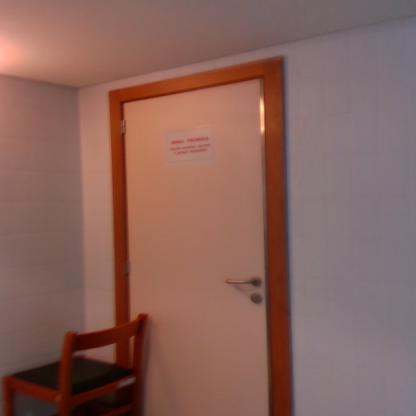door: (124, 96, 272, 415)
hinged: (124, 257, 134, 276), (120, 118, 128, 134)
lever: (223, 276, 261, 292)
